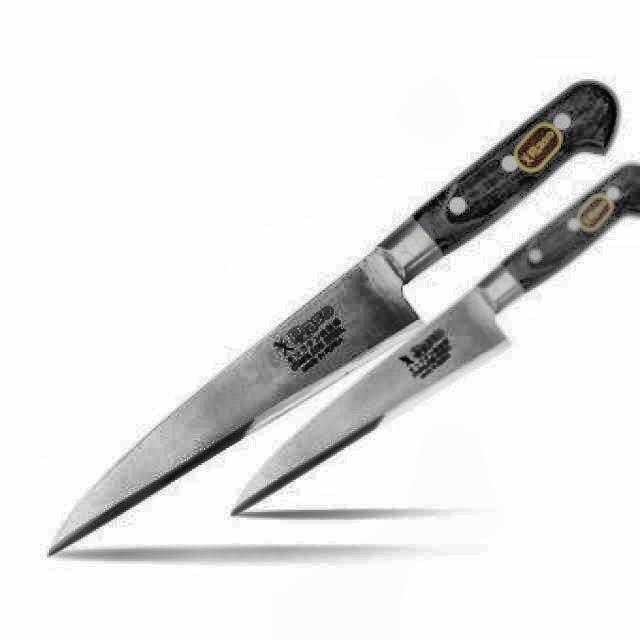knife: (48, 76, 624, 560), (228, 164, 640, 516)
